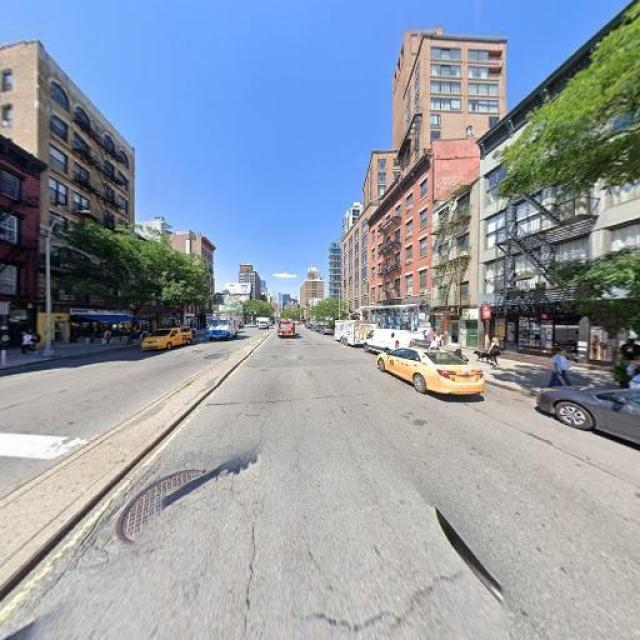Building: (479, 4, 640, 379), (40, 47, 132, 348), (372, 152, 430, 343), (1, 139, 33, 353), (434, 185, 475, 350), (137, 235, 187, 337), (343, 209, 369, 333), (190, 229, 212, 330)
